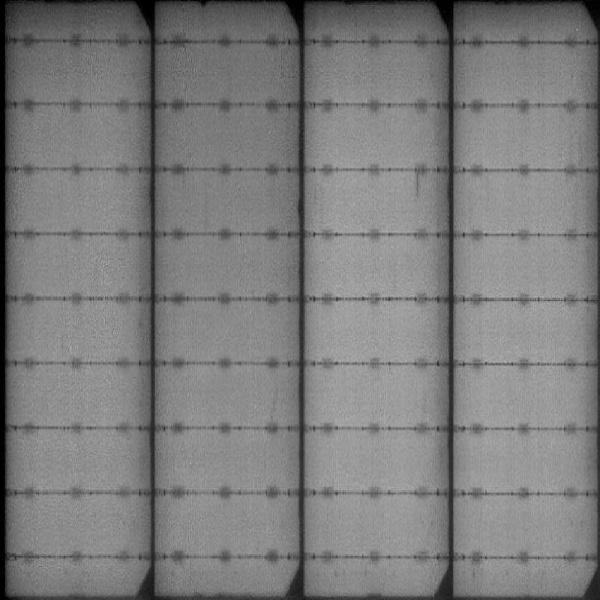scratch: (412, 166, 424, 201)
